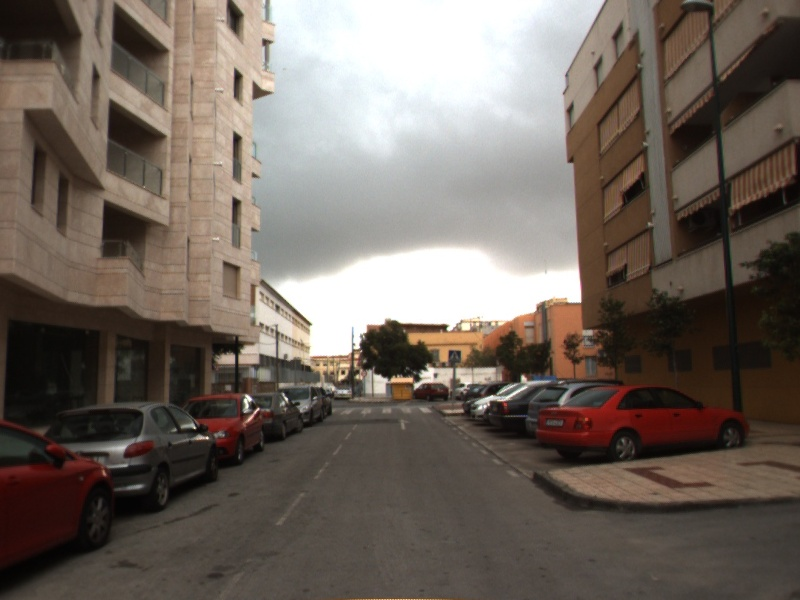STRAIGHT: (395, 417, 413, 432)
